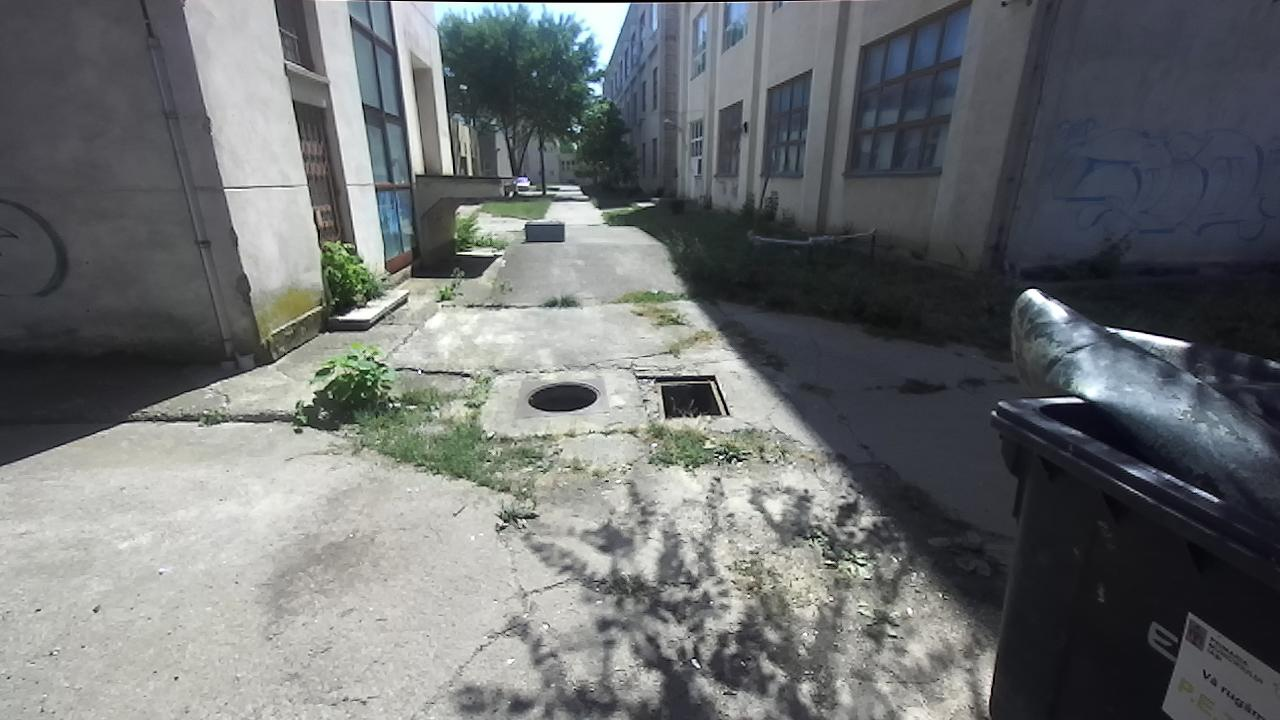drain: (652, 369, 733, 422), (523, 377, 604, 414)
